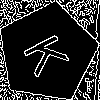K: (22, 27, 78, 78)
